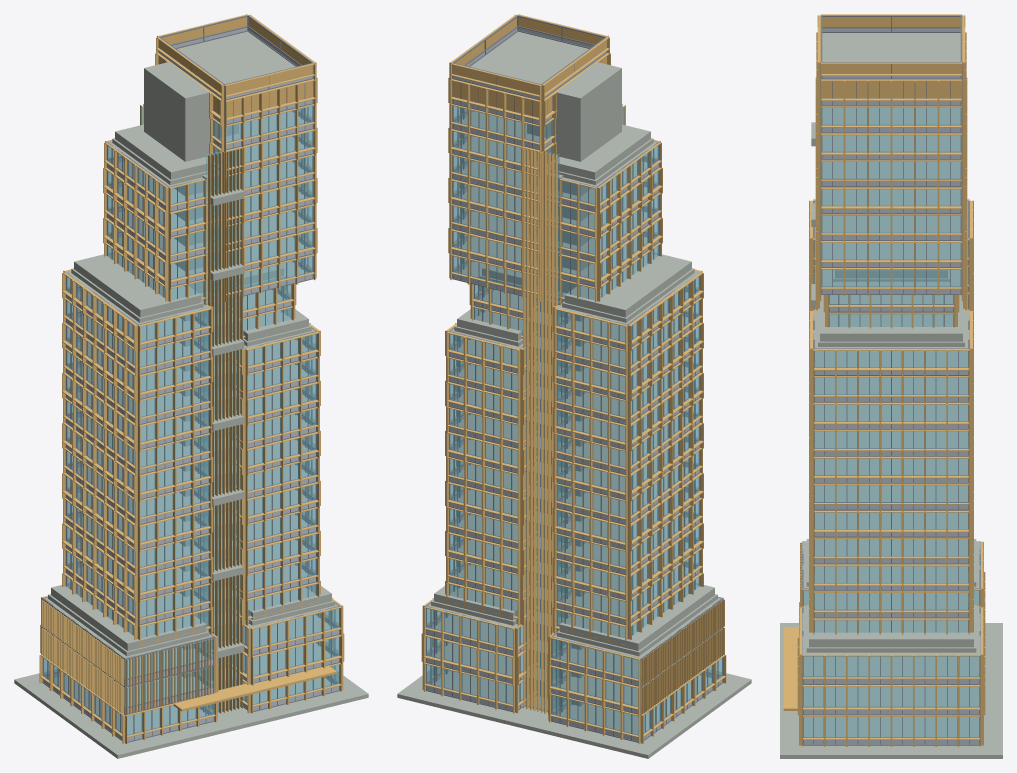
File: fasad_unitized_24lantai.glb
The picture shows the model from 3 angles, left to right: view 1: azimuth 30°, elevation 25°; view 2: azimuth 150°, elevation 25°; view 3: azimuth 270°, elevation 25°; orthographic projection. The views are drawn at different scales.
Parts seen in each view (by area): view 1: 01_Vision_Glass, 06_Unitized_Shading_Fin_Ring, 08_Structure_Slab_Core, 04_Frame_Mullion_Vertical, 07_Vertical_Biophilic_Louver, 03_Spandrel_Panel, 09_SkyGarden_Planter_Greenery, 05_Frame_Transom_Horizontal, 02_Crown_Louver_Glass; view 2: 01_Vision_Glass, 06_Unitized_Shading_Fin_Ring, 08_Structure_Slab_Core, 04_Frame_Mullion_Vertical, 07_Vertical_Biophilic_Louver, 03_Spandrel_Panel, 05_Frame_Transom_Horizontal, 09_SkyGarden_Planter_Greenery, 02_Crown_Louver_Glass; view 3: 08_Structure_Slab_Core, 01_Vision_Glass, 06_Unitized_Shading_Fin_Ring, 03_Spandrel_Panel, 05_Frame_Transom_Horizontal, 04_Frame_Mullion_Vertical, 09_SkyGarden_Planter_Greenery, 02_Crown_Louver_Glass, 07_Vertical_Biophilic_Louver.
Boxes of the visible parts, bbox=[...] form: 01_Vision_Glass: bbox=[43, 106, 339, 735]; 06_Unitized_Shading_Fin_Ring: bbox=[39, 14, 344, 743]; 08_Structure_Slab_Core: bbox=[14, 31, 368, 758]; 04_Frame_Mullion_Vertical: bbox=[42, 15, 340, 742]; 07_Vertical_Biophilic_Louver: bbox=[41, 104, 242, 714]; 03_Spandrel_Panel: bbox=[43, 27, 339, 741]; 09_SkyGarden_Planter_Greenery: bbox=[51, 124, 331, 658]; 05_Frame_Transom_Horizontal: bbox=[42, 15, 339, 742]; 02_Crown_Louver_Glass: bbox=[159, 17, 313, 117]; 01_Vision_Glass: bbox=[426, 106, 722, 735]; 06_Unitized_Shading_Fin_Ring: bbox=[421, 14, 726, 743]; 08_Structure_Slab_Core: bbox=[397, 31, 751, 758]; 04_Frame_Mullion_Vertical: bbox=[425, 15, 723, 740]; 07_Vertical_Biophilic_Louver: bbox=[523, 104, 724, 714]; 03_Spandrel_Panel: bbox=[426, 27, 722, 741]; 05_Frame_Transom_Horizontal: bbox=[426, 15, 723, 742]; 09_SkyGarden_Planter_Greenery: bbox=[434, 124, 714, 650]; 02_Crown_Louver_Glass: bbox=[452, 17, 606, 117]; 08_Structure_Slab_Core: bbox=[780, 33, 1002, 758]; 01_Vision_Glass: bbox=[803, 108, 979, 737]; 06_Unitized_Shading_Fin_Ring: bbox=[783, 14, 985, 746]; 03_Spandrel_Panel: bbox=[803, 28, 979, 744]; 05_Frame_Transom_Horizontal: bbox=[802, 15, 980, 745]; 04_Frame_Mullion_Vertical: bbox=[802, 15, 980, 745]; 09_SkyGarden_Planter_Greenery: bbox=[809, 122, 973, 647]; 02_Crown_Louver_Glass: bbox=[821, 17, 961, 98]; 07_Vertical_Biophilic_Louver: bbox=[800, 78, 967, 607].
Bounding box in the file's own units: 42 × 101 × 30.
